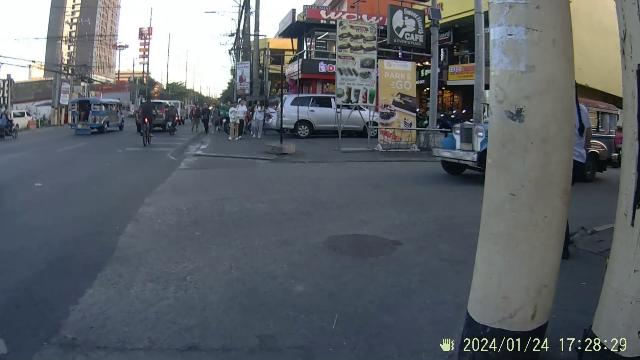lamp_post: (202, 4, 250, 93)
